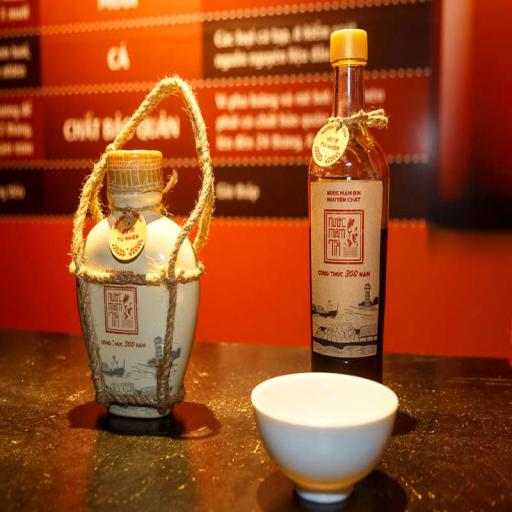bottle: (308, 29, 389, 381)
